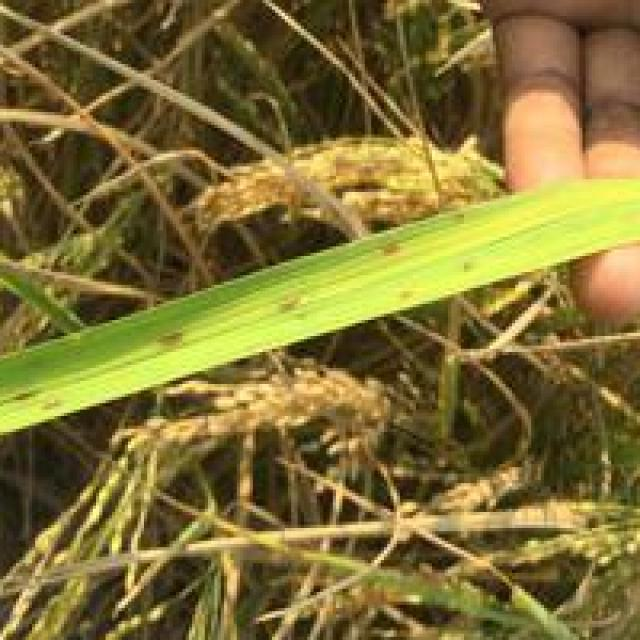Brown_Spot: (3, 380, 61, 410), (266, 282, 316, 310), (150, 320, 182, 342), (368, 237, 403, 253)
